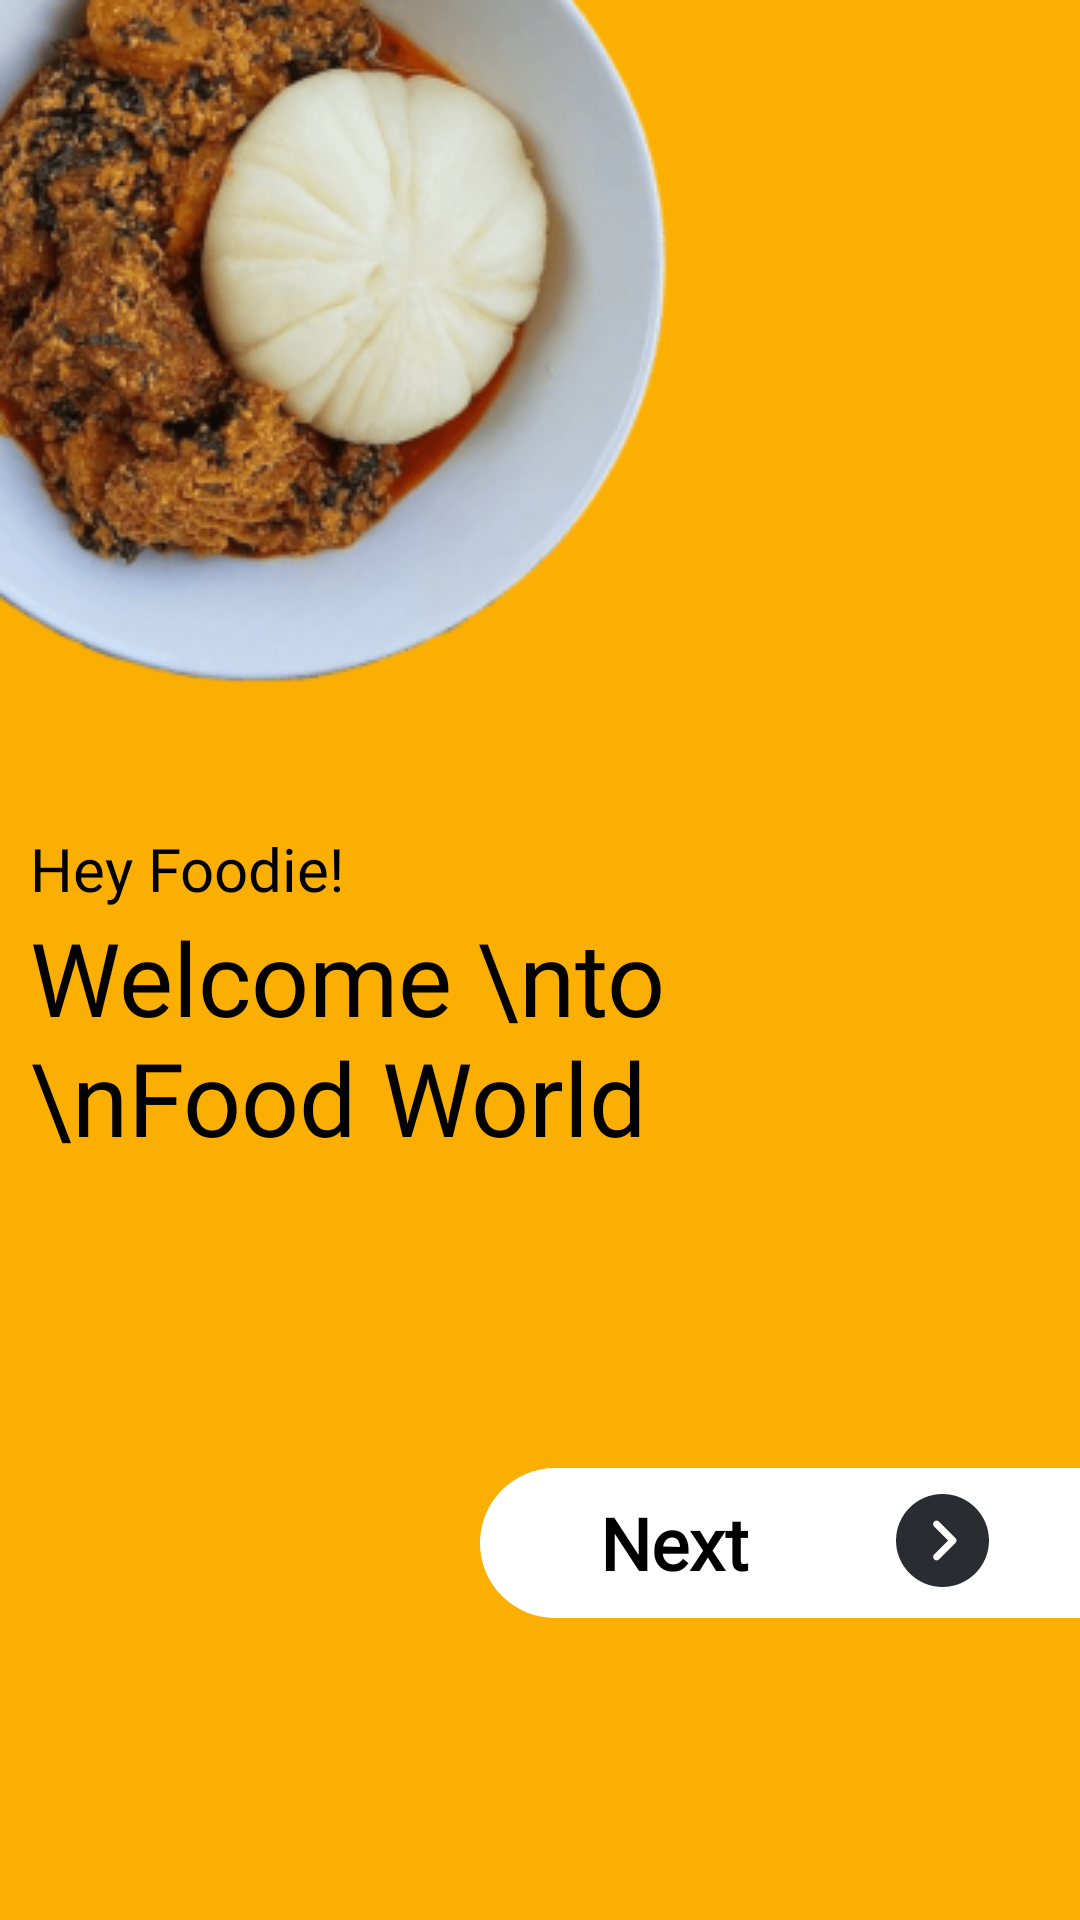

Where to tap for icons on this 1080×1920 app screen, as (x=x, y=y):
arrow circle right: (x=942, y=1540)
